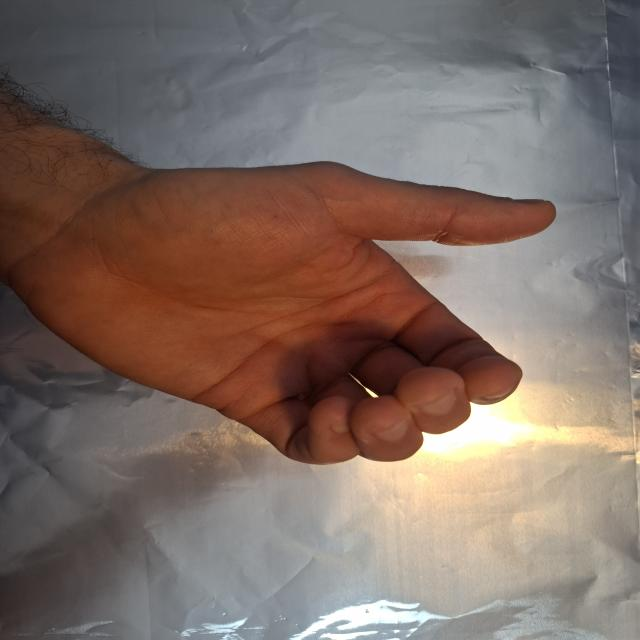glove_off: (4, 150, 560, 468)
